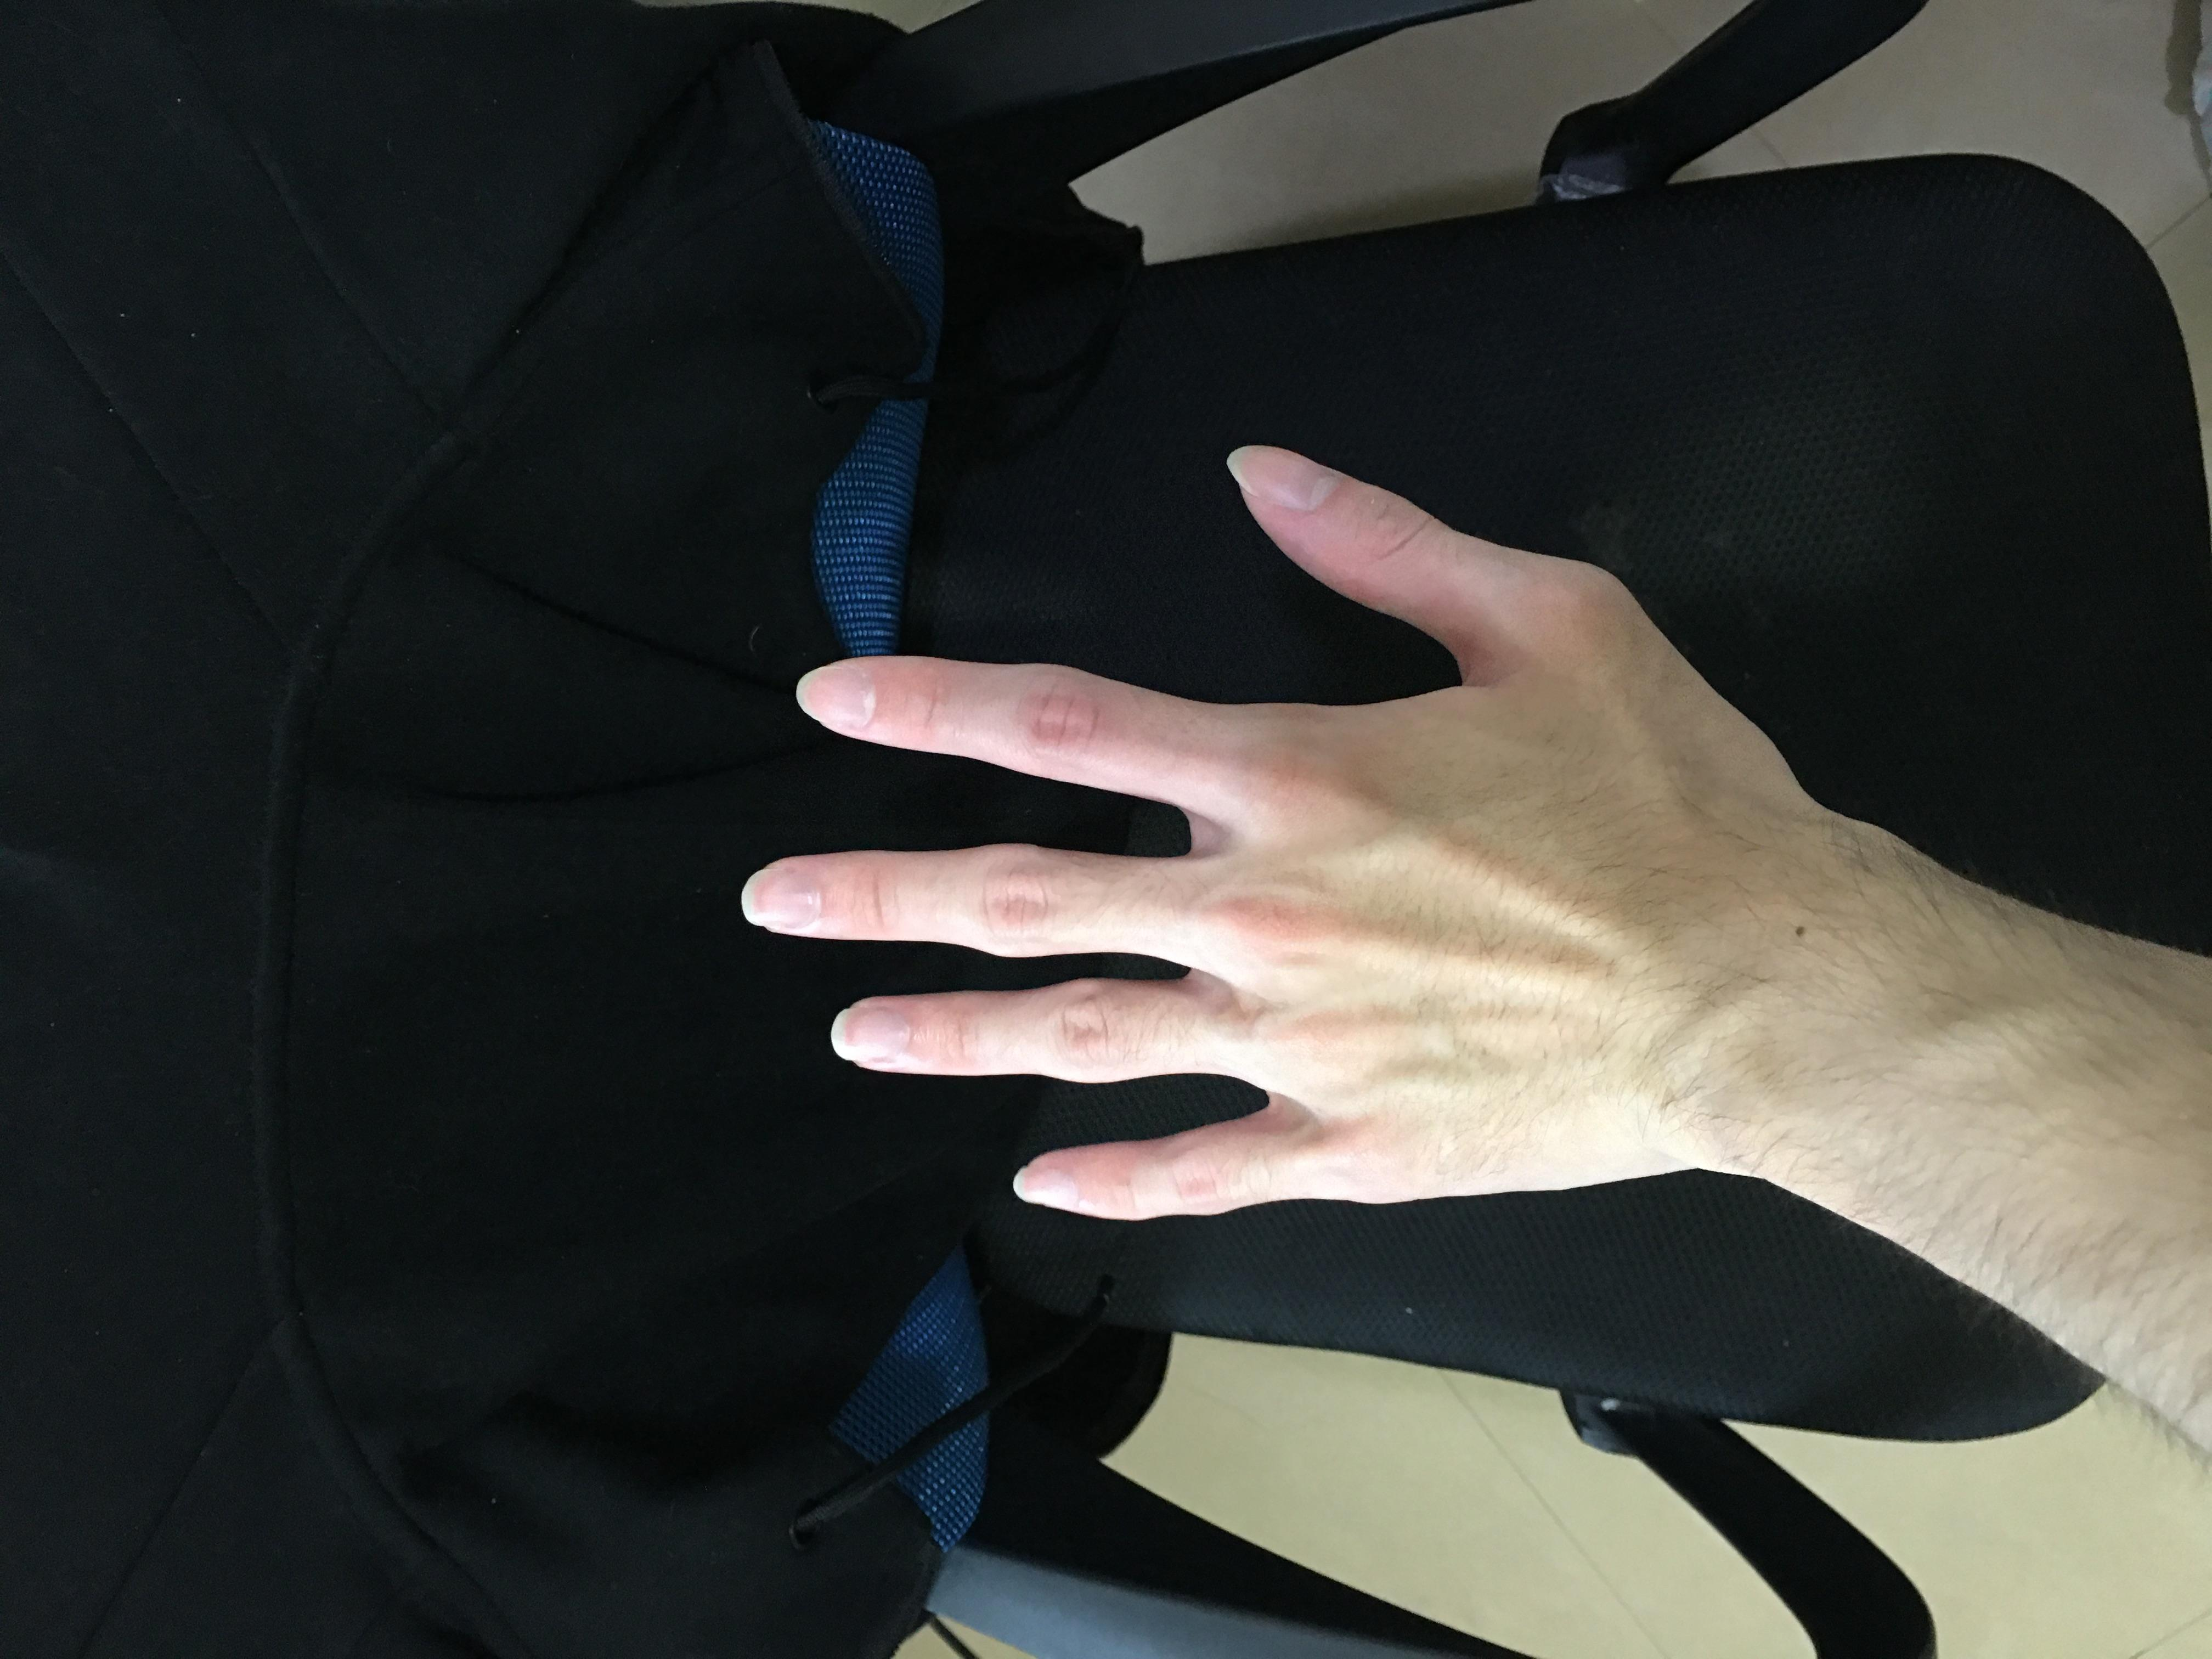hand: (550, 535, 1637, 1312)
